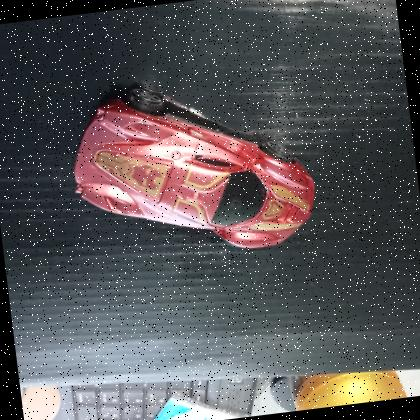Car: (58, 64, 328, 276)
